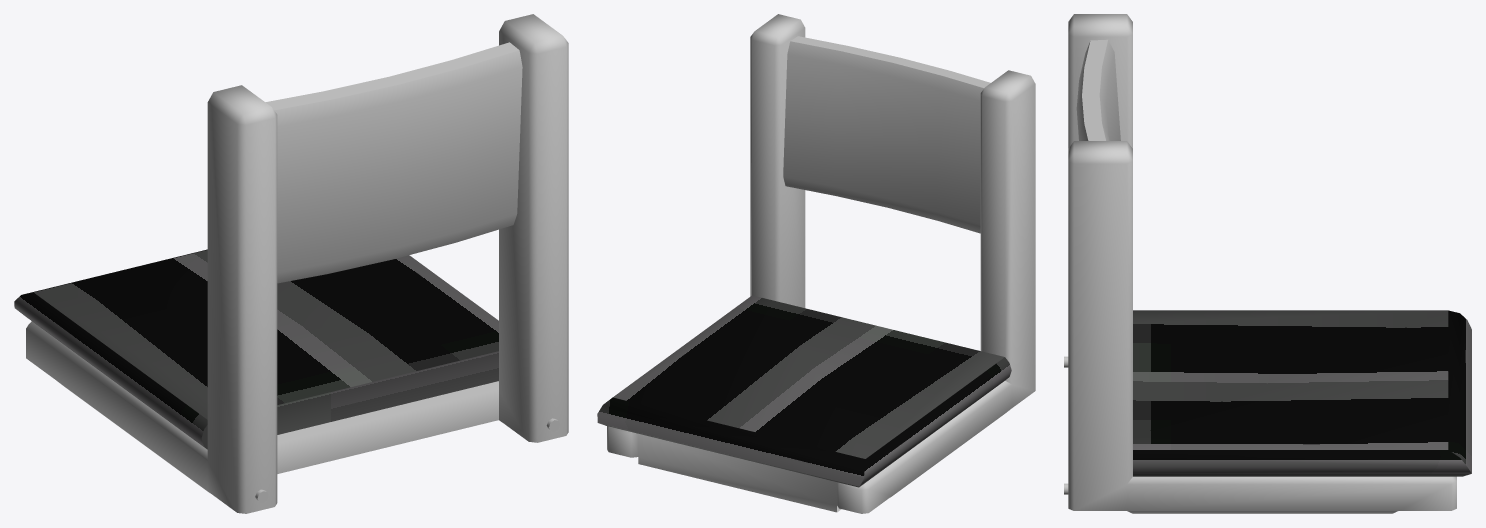
3 renders of one model, left to right at view 1: azimuth 30°, elevation 25°; view 2: azimuth 150°, elevation 25°; view 3: azimuth 270°, elevation 25°, orthographic. The views are drawn at different scales.
Visible parts, largest first — view 1: Joint_0_Object_0, Joint_0_Object_2; view 2: Joint_0_Object_0, Joint_0_Object_2; view 3: Joint_0_Object_2, Joint_0_Object_0.
Boxes of the visible parts, x1,y1,x2,y2 form: Joint_0_Object_0: (26,14,568,513); Joint_0_Object_2: (14,249,498,449); Joint_0_Object_0: (607,14,1035,513); Joint_0_Object_2: (597,295,1011,487); Joint_0_Object_2: (1133,310,1471,476); Joint_0_Object_0: (1068,14,1456,513).
Bounding box in the file's own units: 590 × 680 × 692.
